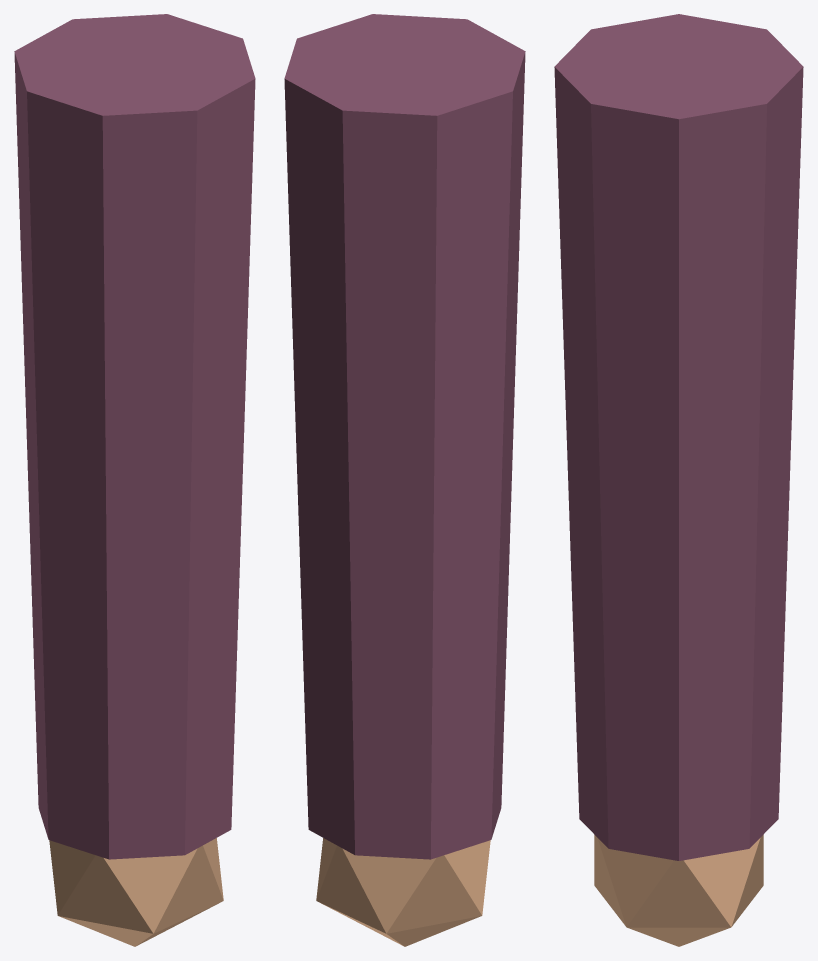
The model's file is insan_k0k_kol.glb.
3 renders of one model, left to right at view 1: azimuth 30°, elevation 25°; view 2: azimuth 150°, elevation 25°; view 3: azimuth 270°, elevation 25°, orthographic.
Parts seen in each view (by area): view 1: Cone; view 2: Cone; view 3: Cone.
Part boxes in pixels (x1,y1,x2,y2): Cone: [14, 14, 255, 946]; Cone: [284, 14, 525, 946]; Cone: [554, 14, 803, 946].
Size of the model in its own units: 0.03 by 0.117 by 0.03.
